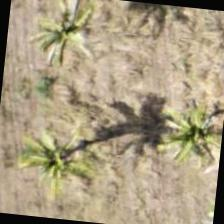Kelapa_Sawit: (27, 76, 126, 175), (147, 78, 223, 177)
